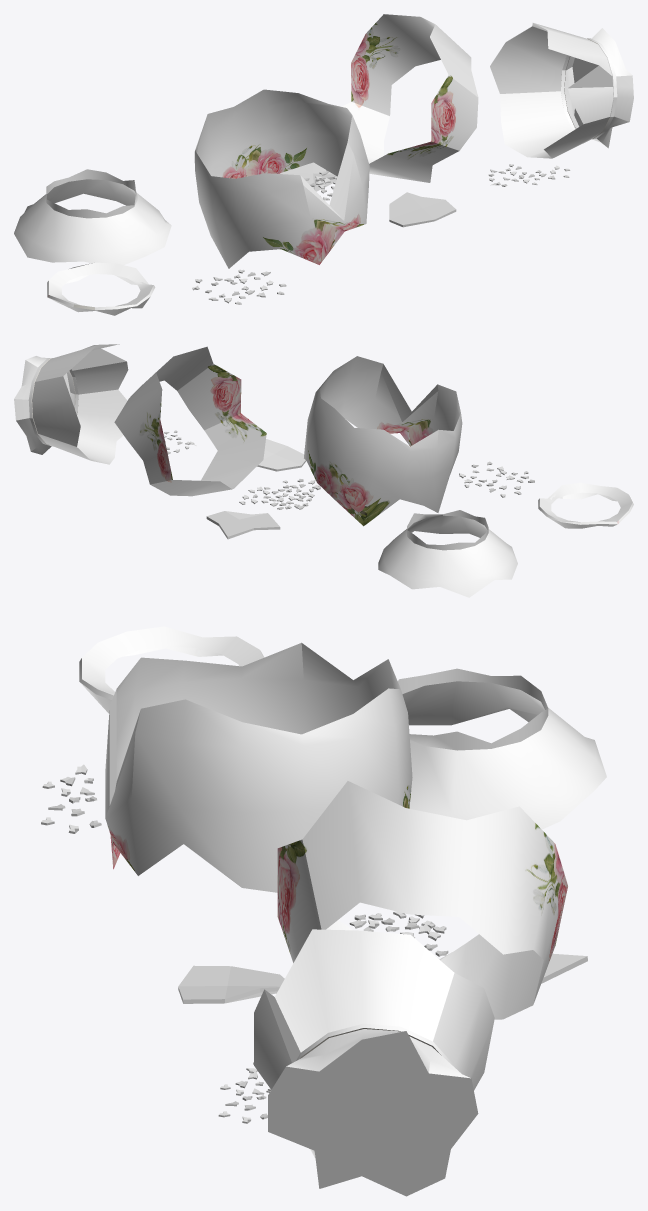
Rendered from Jarron Roto.fbx.
3 renders of one model, top to bottom at view 1: azimuth 30°, elevation 25°; view 2: azimuth 150°, elevation 25°; view 3: azimuth 270°, elevation 25°, orthographic. The views are drawn at different scales.
Visible parts, largest first — view 1: Cylinder, Cube.093, Cube.068, Cube.094, Cube.012; view 2: Cylinder, Cube.094, Cube.093, Cube.034, Cube.068; view 3: Cylinder, Cube.093, Cube.034, Cube.068.
Boxes of the visible parts, x1=… form: Cylinder: x1=14, y1=14, x2=633, y2=315; Cube.093: x1=389, y1=192, x2=456, y2=227; Cube.068: x1=192, y1=269, x2=286, y2=304; Cube.094: x1=279, y1=162, x2=336, y2=191; Cube.012: x1=488, y1=164, x2=570, y2=186; Cylinder: x1=14, y1=344, x2=633, y2=597; Cube.094: x1=206, y1=511, x2=280, y2=539; Cube.093: x1=257, y1=439, x2=306, y2=471; Cube.034: x1=239, y1=479, x2=320, y2=509; Cube.068: x1=459, y1=461, x2=534, y2=497; Cylinder: x1=79, y1=626, x2=606, y2=1196; Cube.093: x1=178, y1=965, x2=284, y2=1003; Cube.034: x1=349, y1=911, x2=448, y2=956; Cube.068: x1=41, y1=764, x2=101, y2=833.
Size of the model in its own units: 317 by 75.74 by 143.
2 materials, 2 textured.
